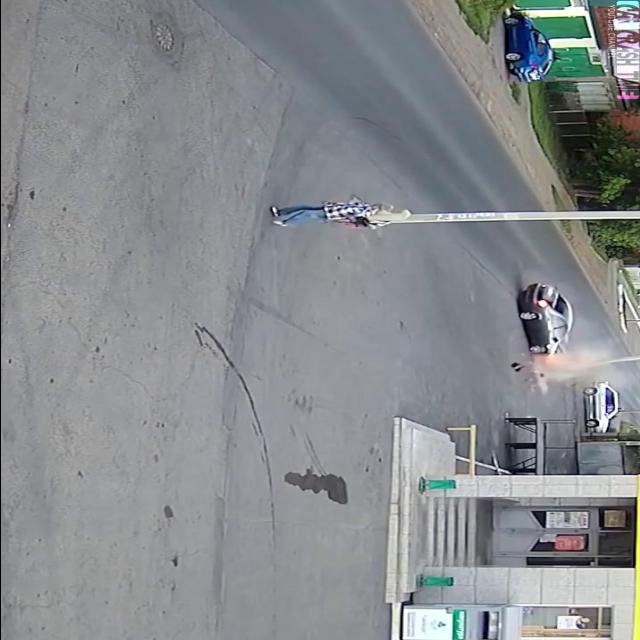accident: (490, 276, 598, 383)
